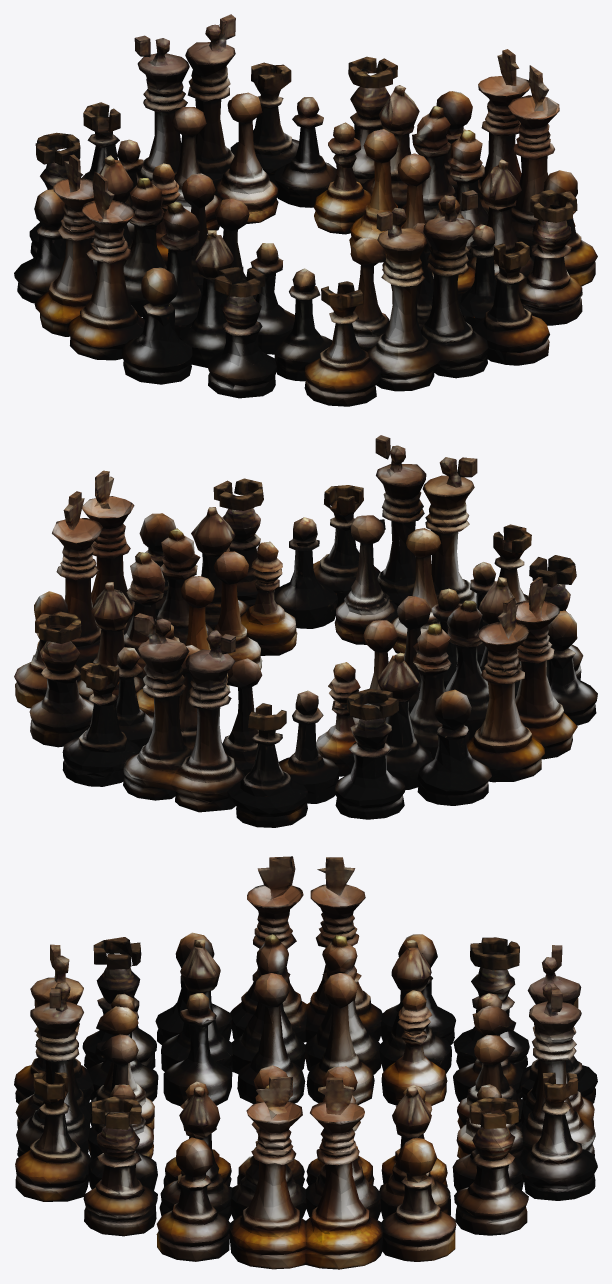
The model's file is wooden-chess-set-vintage.jpeg.glb.
3 views of the same model, one above another, from view 1: azimuth 30°, elevation 25°; view 2: azimuth 150°, elevation 25°; view 3: azimuth 270°, elevation 25° (orthographic). The views are drawn at different scales.
Parts seen in each view (by area): view 1: world; view 2: world; view 3: world.
Boxes of the visible parts, x1,y1,x2,y2 form: world: (14,14,597,406); world: (14,435,597,827); world: (14,856,597,1269).
Bounding box in the file's own units: 0.9873 × 0.3292 × 0.9673.
1 material, 1 textured.
